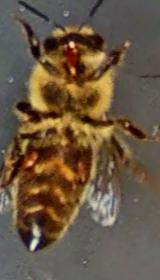varroa_mite: (14, 143, 48, 178), (66, 154, 95, 188)
